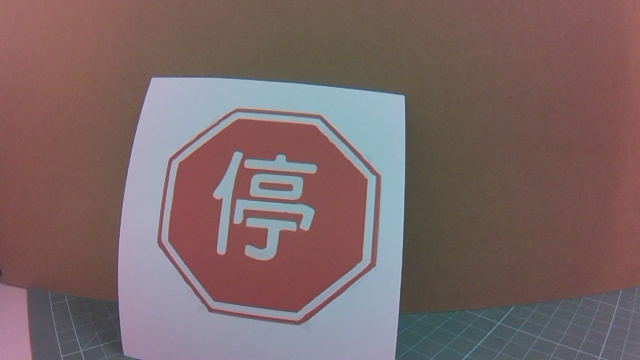stop: (164, 105, 360, 311)
